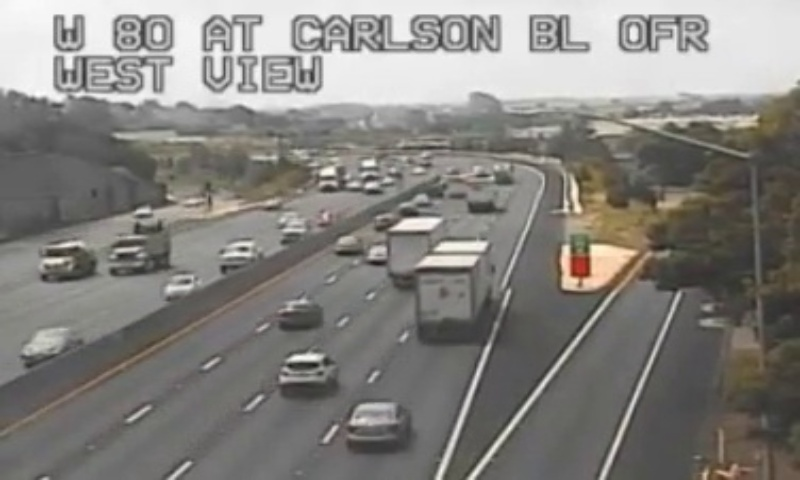car: (344, 400, 408, 445), (276, 353, 336, 389), (276, 301, 321, 326), (334, 234, 361, 254), (368, 245, 391, 261)
truck: (417, 238, 491, 342), (385, 218, 446, 285)
